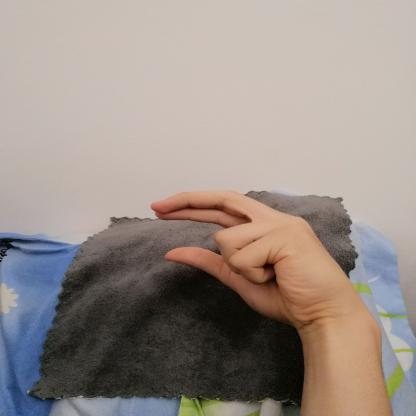DHELL: (140, 182, 363, 328)
